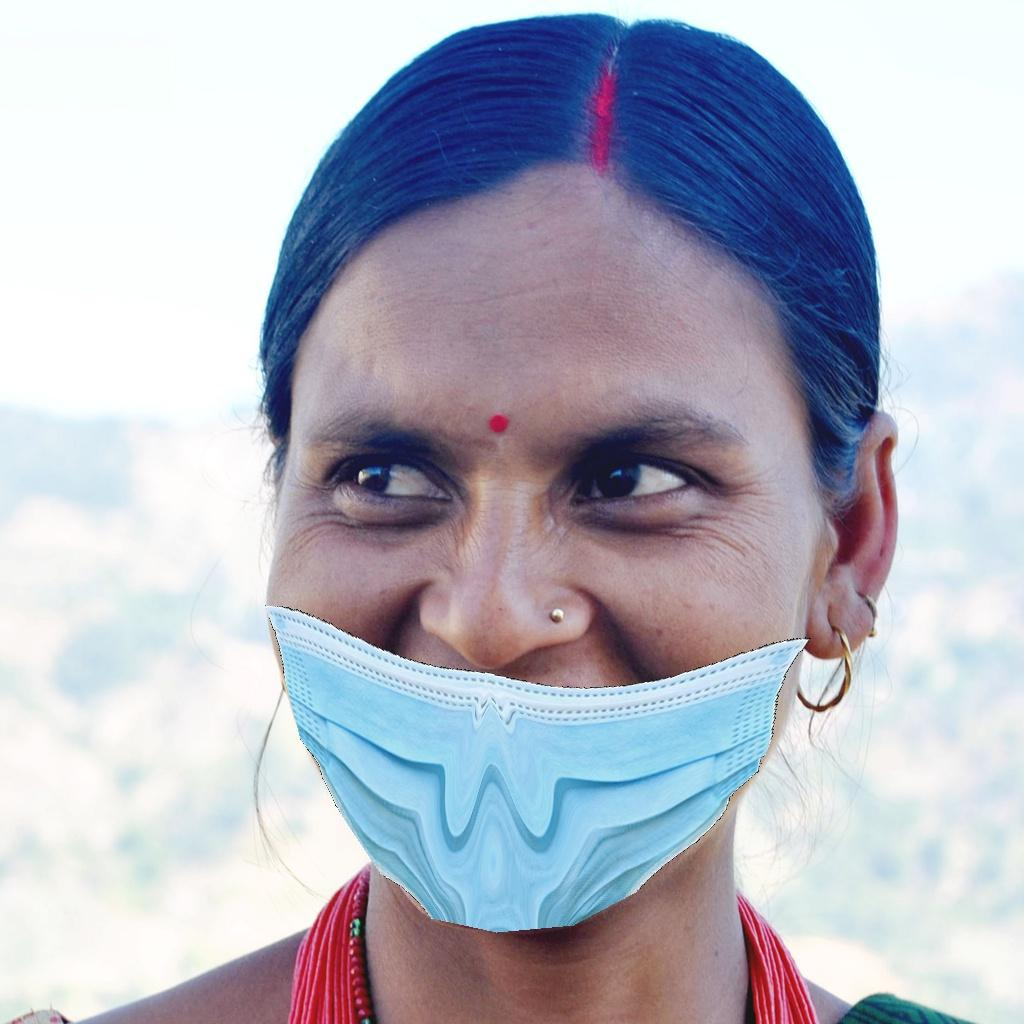Máscara Incorreta: (273, 313, 794, 921)
